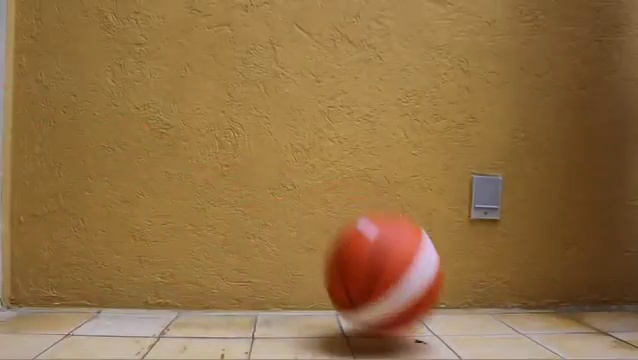ball: (323, 212, 443, 333)
